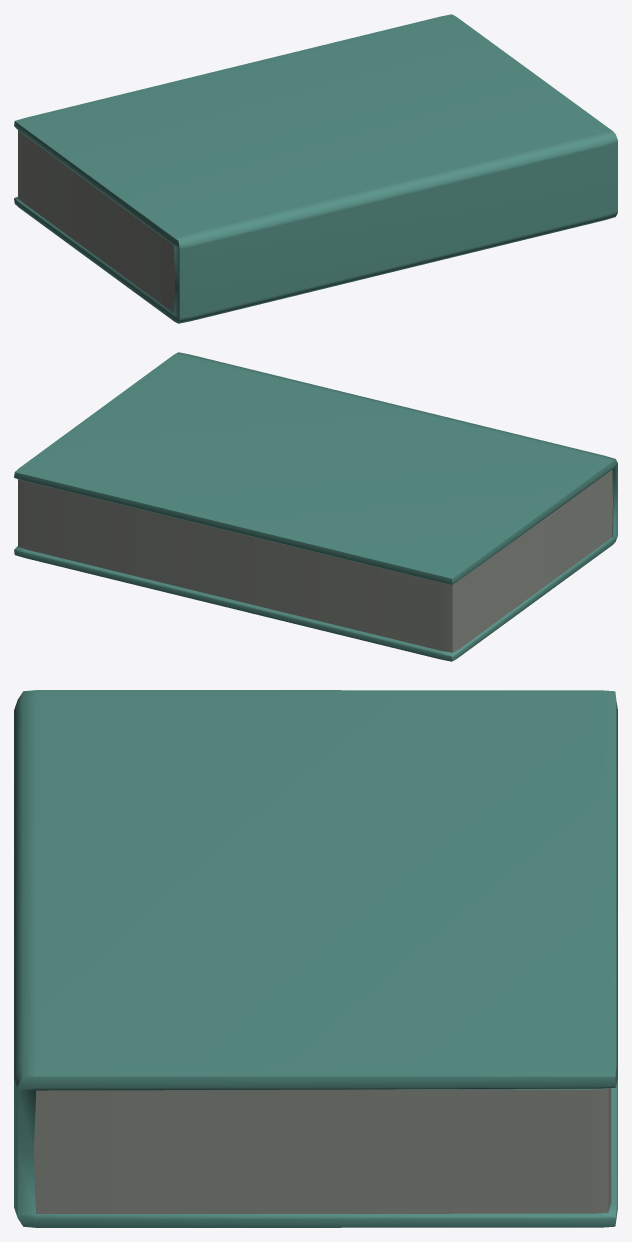
Rendered from Book.005.fbx.
3 renders of one model, top to bottom at view 1: azimuth 30°, elevation 25°; view 2: azimuth 150°, elevation 25°; view 3: azimuth 270°, elevation 25°, orthographic. The views are drawn at different scales.
Parts seen in each view (by area): view 1: Book.005; view 2: Book.005; view 3: Book.005.
Boxes of the visible parts, x1,y1,x2,y2 form: Book.005: [14, 14, 617, 323]; Book.005: [14, 352, 617, 661]; Book.005: [14, 690, 617, 1227].
Bounding box in the file's own units: 39.4 × 7.24 × 25.86.
